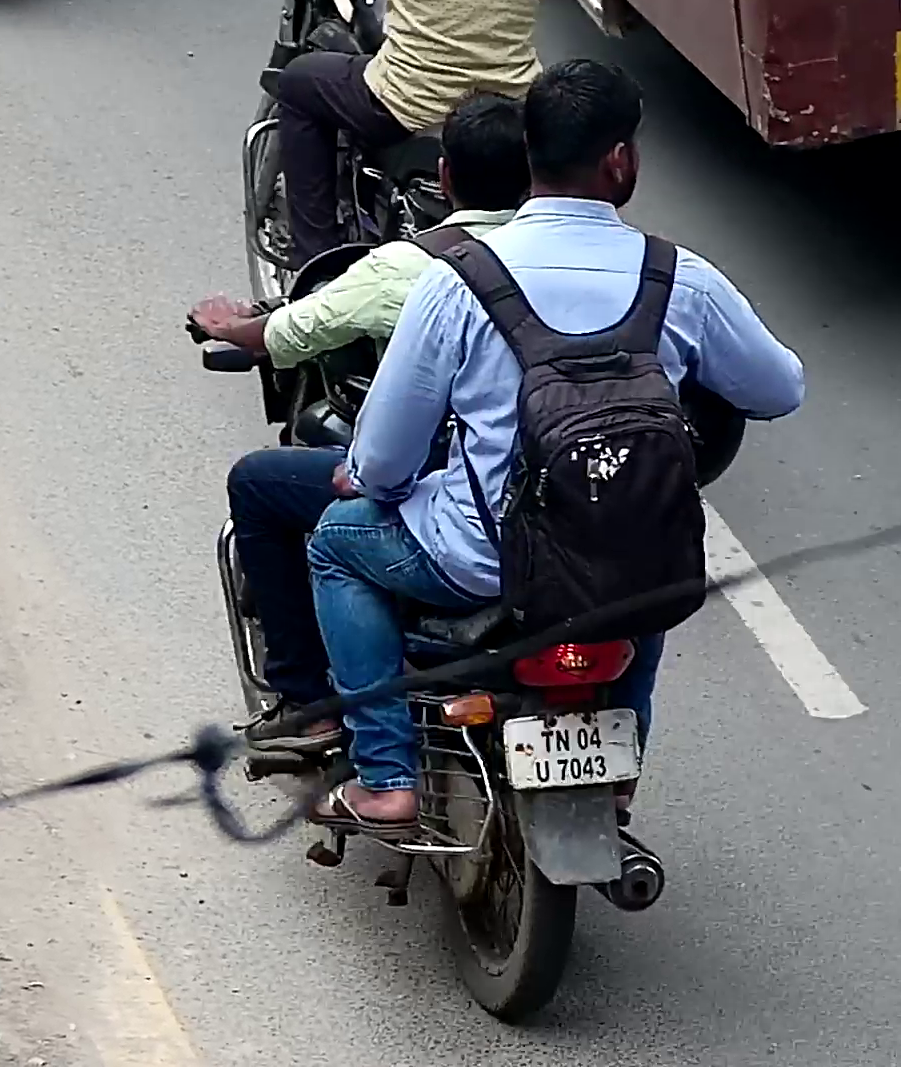0: (569, 757, 582, 779), (577, 727, 589, 750)
3: (594, 754, 607, 777)
4: (589, 727, 602, 750), (582, 756, 593, 779)
7: (557, 758, 569, 781)
N: (555, 729, 570, 751)
P16: (500, 706, 643, 793)
T: (540, 730, 555, 753)
U: (535, 760, 551, 783)
